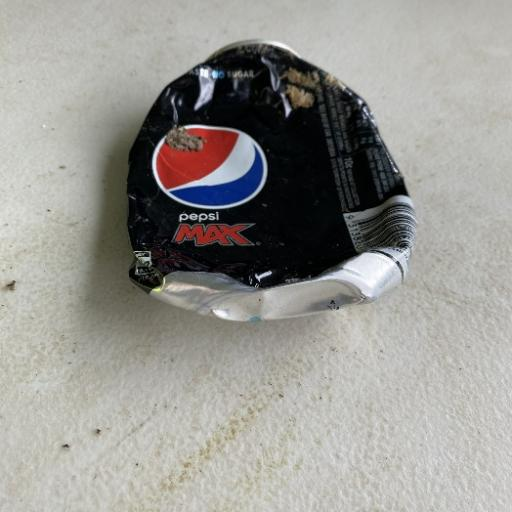Metal: (123, 37, 418, 324)
